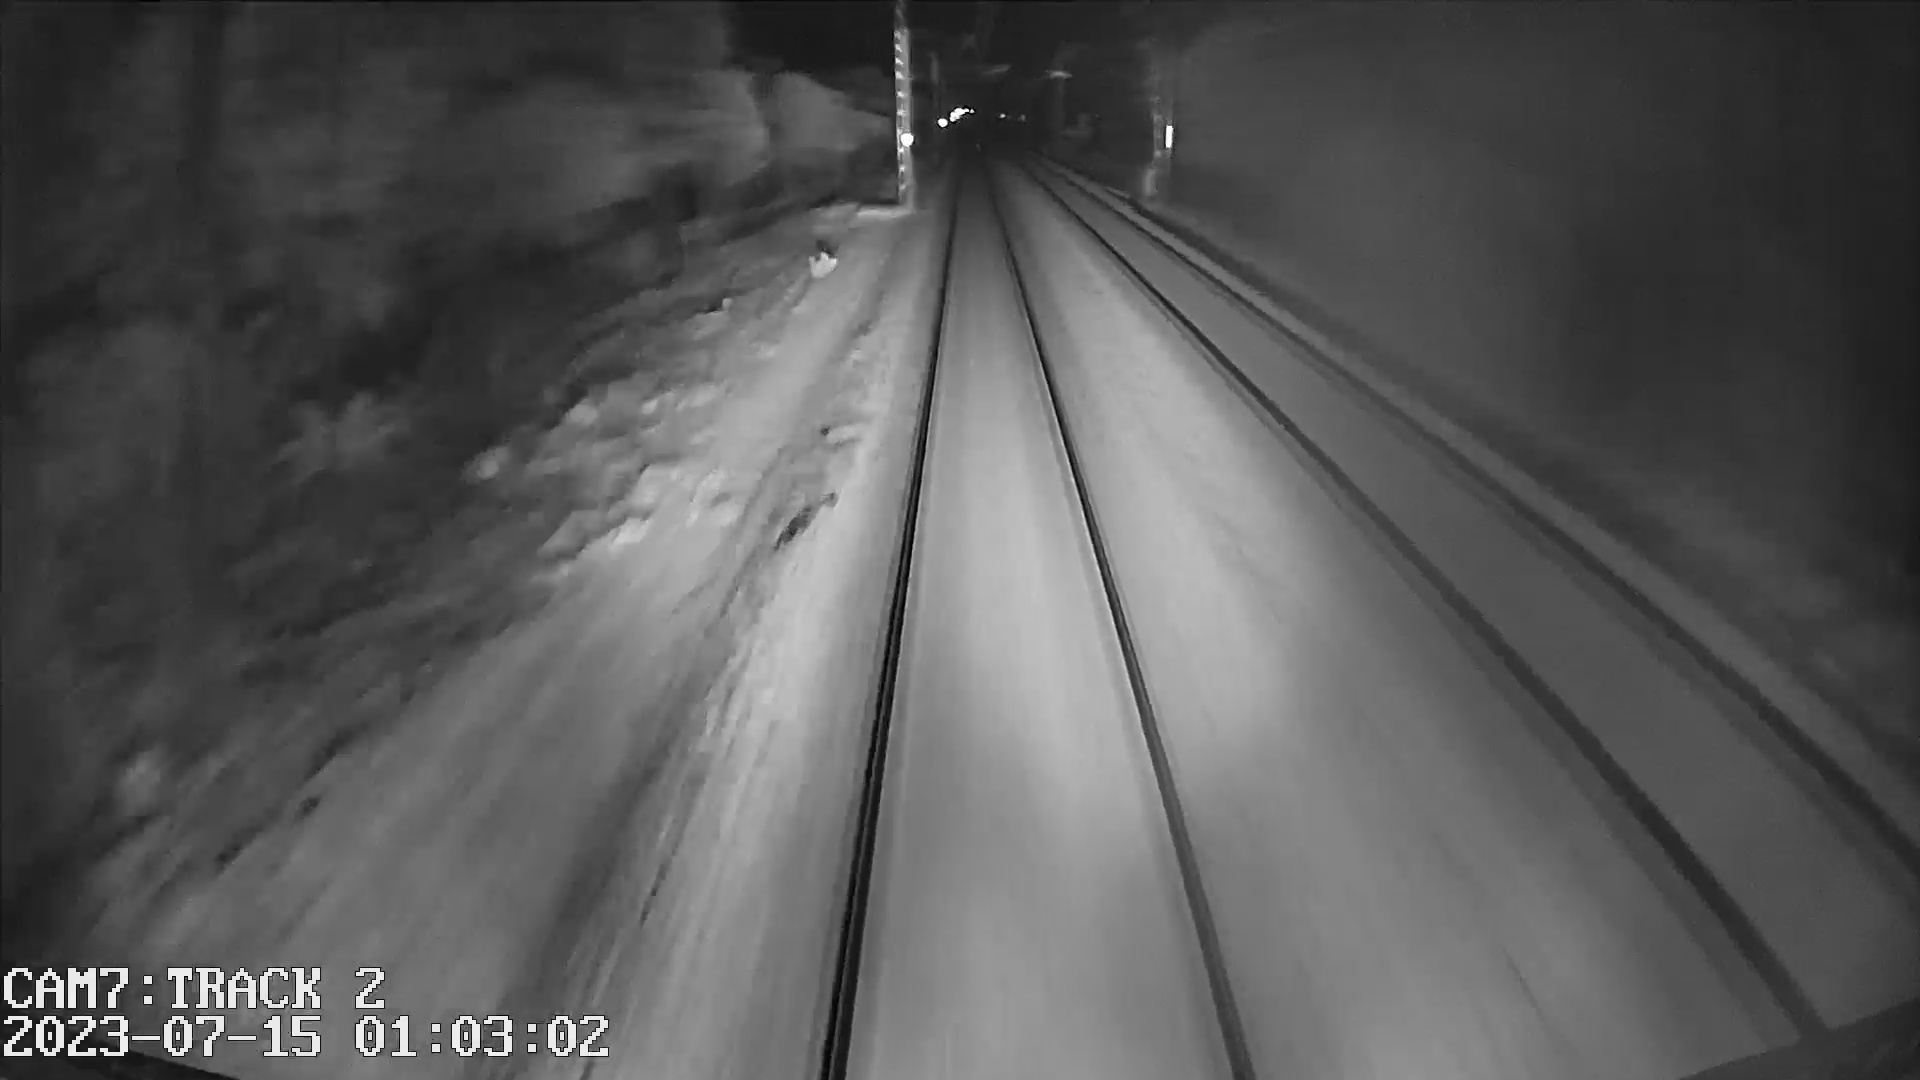track1: (836, 172, 1242, 1056)
track2: (1048, 184, 1912, 988)
